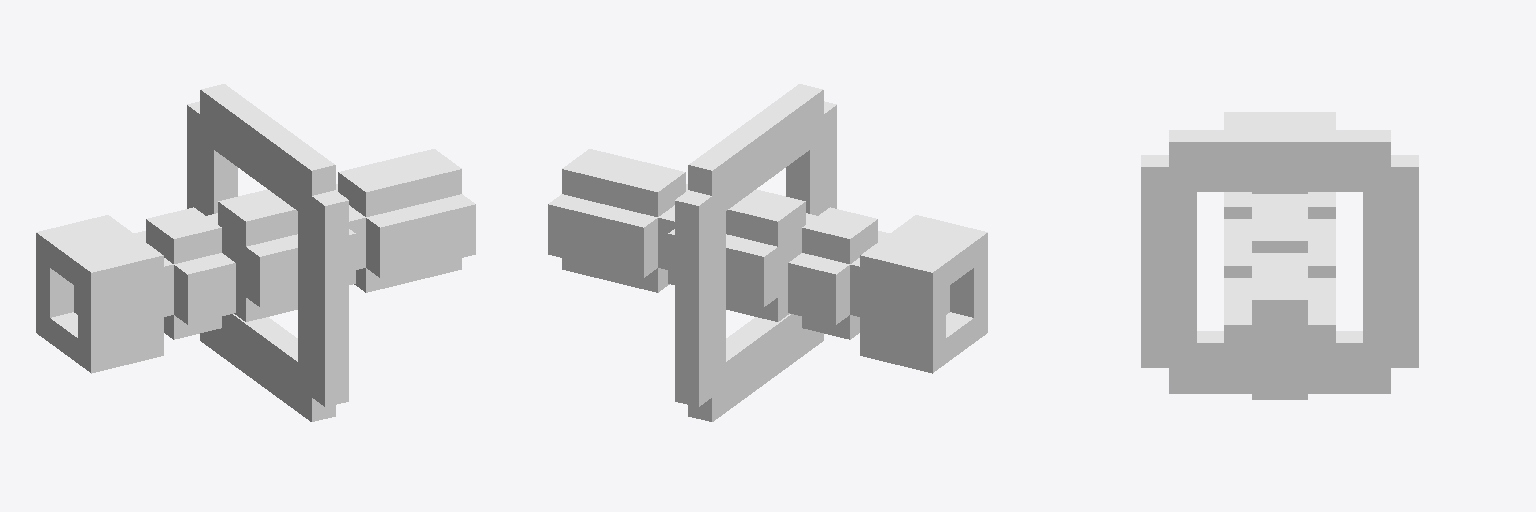
Rendered from lasergun-1.obj.
The picture shows the model from 3 angles: view 1: azimuth 30°, elevation 25°; view 2: azimuth 150°, elevation 25°; view 3: azimuth 270°, elevation 25°; orthographic projection.
Visible parts, largest first — view 1: object 1; view 2: object 1; view 3: object 1.
Part boxes in pixels (x1,y1,x2,y2): object 1: (36, 84, 475, 421); object 1: (548, 84, 987, 421); object 1: (1141, 112, 1418, 399).
Bounding box in the file's own units: 1.6 × 1 × 1.